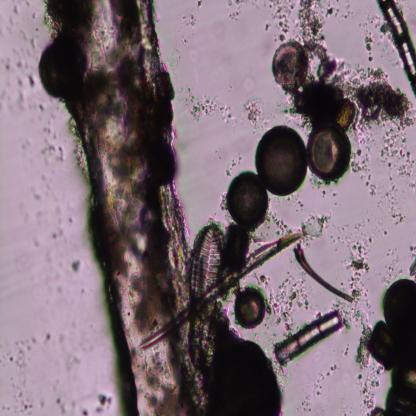Background material: (147, 235, 303, 347), (208, 331, 280, 416), (344, 61, 416, 134), (292, 240, 354, 304), (290, 82, 356, 130), (301, 0, 337, 83), (244, 224, 303, 272), (177, 85, 235, 125), (380, 128, 414, 178), (275, 271, 308, 317), (331, 298, 373, 332), (355, 364, 384, 404), (272, 0, 298, 41), (370, 321, 391, 371), (240, 98, 270, 128), (353, 322, 371, 368), (389, 334, 416, 364), (386, 183, 404, 226), (314, 364, 338, 395), (36, 122, 56, 158), (348, 243, 370, 274), (303, 214, 330, 238), (344, 273, 368, 300), (268, 212, 293, 236), (256, 327, 274, 358), (274, 313, 295, 338), (14, 340, 31, 370), (165, 47, 182, 74), (265, 289, 279, 319), (96, 391, 113, 415), (352, 157, 371, 177), (333, 60, 347, 86), (274, 366, 290, 388), (364, 34, 376, 63), (297, 392, 312, 414), (358, 132, 376, 150), (227, 156, 242, 177), (63, 353, 80, 370), (363, 404, 383, 416), (256, 272, 270, 287), (407, 257, 416, 280), (235, 0, 260, 8), (55, 396, 65, 416), (183, 14, 197, 28), (20, 402, 36, 414), (16, 92, 26, 110), (55, 145, 65, 162), (227, 10, 241, 22), (325, 6, 339, 18), (219, 193, 226, 214), (70, 260, 82, 272), (50, 228, 62, 240), (384, 264, 394, 278), (368, 183, 378, 197), (28, 74, 36, 90), (342, 343, 350, 359), (394, 265, 403, 279), (16, 75, 24, 90), (33, 192, 43, 204), (409, 243, 416, 258), (32, 236, 41, 247), (264, 20, 272, 32), (340, 10, 352, 18), (194, 0, 204, 9), (80, 407, 90, 416), (353, 221, 362, 231), (408, 181, 416, 192), (14, 389, 22, 399), (44, 334, 52, 344), (5, 58, 11, 71), (365, 175, 372, 186), (297, 200, 304, 210), (13, 4, 19, 15), (304, 301, 310, 312), (39, 400, 46, 409), (30, 38, 35, 50), (292, 35, 300, 42), (16, 60, 22, 68), (356, 148, 362, 156), (366, 235, 372, 243), (386, 249, 392, 257), (9, 16, 14, 25), (68, 218, 74, 225), (321, 190, 326, 198), (330, 236, 335, 243), (307, 243, 311, 251), (295, 208, 300, 214), (31, 13, 36, 18), (340, 227, 346, 231), (9, 357, 13, 362), (36, 27, 40, 32), (333, 192, 336, 198), (228, 4, 232, 8), (384, 231, 387, 236), (343, 412, 346, 416), (368, 219, 370, 223), (338, 239, 340, 241)
Diatom: (190, 222, 219, 368), (252, 126, 308, 198), (273, 307, 343, 360), (377, 0, 416, 89), (304, 125, 353, 184), (226, 171, 270, 228), (40, 45, 82, 100), (380, 277, 416, 335), (271, 41, 308, 92), (231, 287, 269, 332), (382, 380, 416, 416), (390, 356, 416, 393)
Microfibre: (43, 0, 209, 416)
